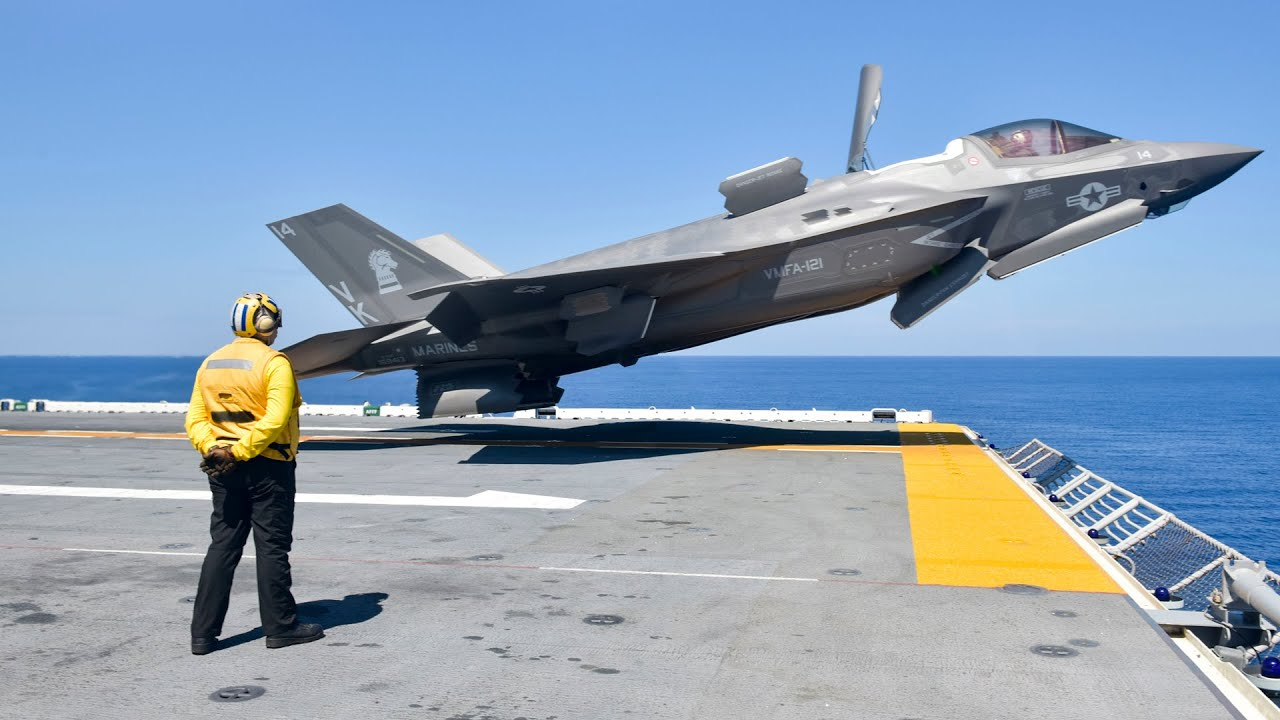F35: (251, 60, 1271, 437)
